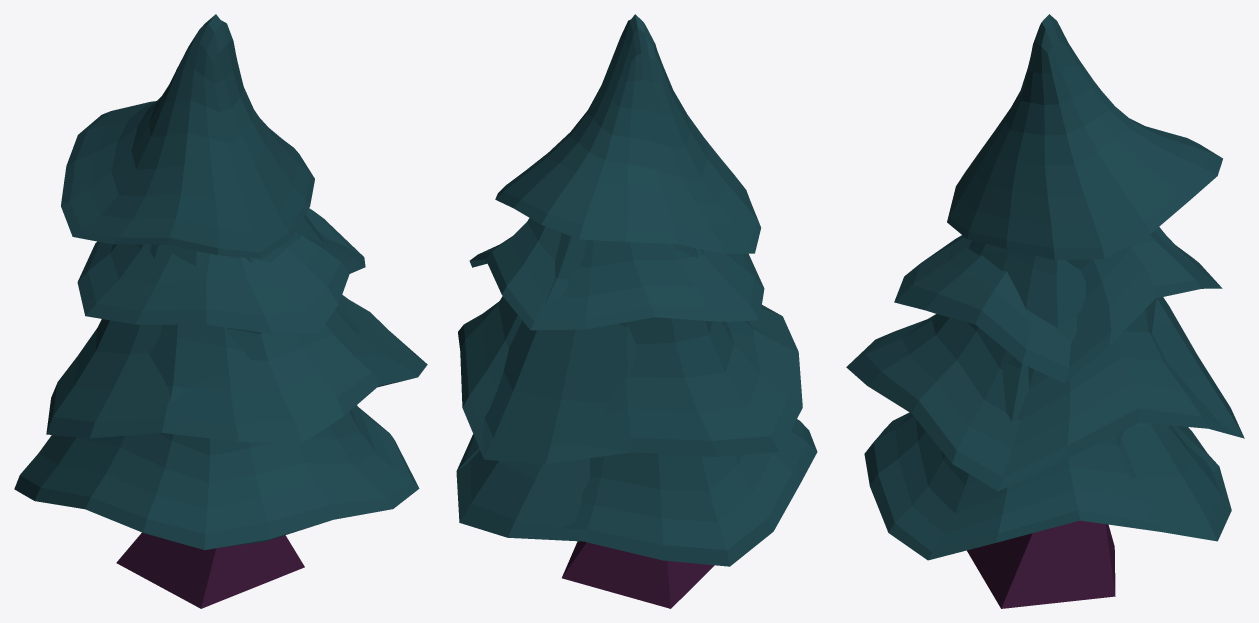
File: Tree3.fbx
The picture shows the model from 3 angles, left to right: view 1: azimuth 30°, elevation 25°; view 2: azimuth 150°, elevation 25°; view 3: azimuth 270°, elevation 25°; orthographic projection. The views are drawn at different scales.
Parts seen in each view (by area): view 1: Tree3_Leaves4, Tree3_Leaves2, Tree3_Leaves1, Tree3_Leaves3, Tree3_Trunk; view 2: Tree3_Leaves2, Tree3_Leaves1, Tree3_Leaves4, Tree3_Leaves3, Tree3_Trunk; view 3: Tree3_Leaves2, Tree3_Leaves4, Tree3_Leaves1, Tree3_Leaves3, Tree3_Trunk.
Boxes of the visible parts, x1=… form: Tree3_Leaves4: x1=61, y1=14, x2=314, y2=258; Tree3_Leaves2: x1=46, y1=257, x2=427, y2=443; Tree3_Leaves1: x1=14, y1=405, x2=419, y2=549; Tree3_Leaves3: x1=77, y1=208, x2=365, y2=333; Tree3_Trunk: x1=116, y1=532, x2=304, y2=608; Tree3_Leaves2: x1=458, y1=296, x2=802, y2=464; Tree3_Leaves1: x1=456, y1=419, x2=817, y2=566; Tree3_Leaves4: x1=495, y1=14, x2=760, y2=253; Tree3_Leaves3: x1=469, y1=218, x2=764, y2=330; Tree3_Trunk: x1=562, y1=541, x2=714, y2=608; Tree3_Leaves2: x1=846, y1=297, x2=1244, y2=491; Tree3_Leaves4: x1=947, y1=14, x2=1222, y2=260; Tree3_Leaves1: x1=864, y1=412, x2=1231, y2=560; Tree3_Leaves3: x1=894, y1=227, x2=1222, y2=383; Tree3_Trunk: x1=967, y1=520, x2=1115, y2=608.
Bounding box in the file's own units: 279 × 285 × 437.
